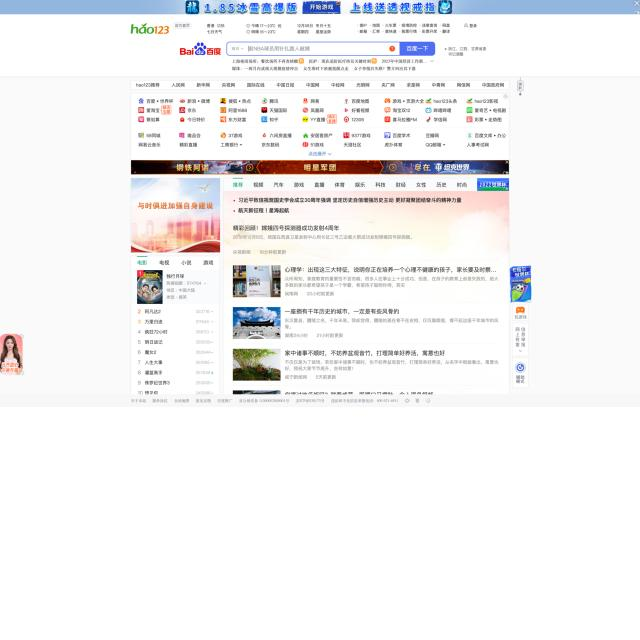input: (226, 41, 436, 56)
logo: (178, 40, 222, 58), (130, 22, 170, 38)
navigation: (135, 96, 508, 151), (172, 20, 483, 38), (231, 58, 437, 73), (135, 82, 507, 90)
